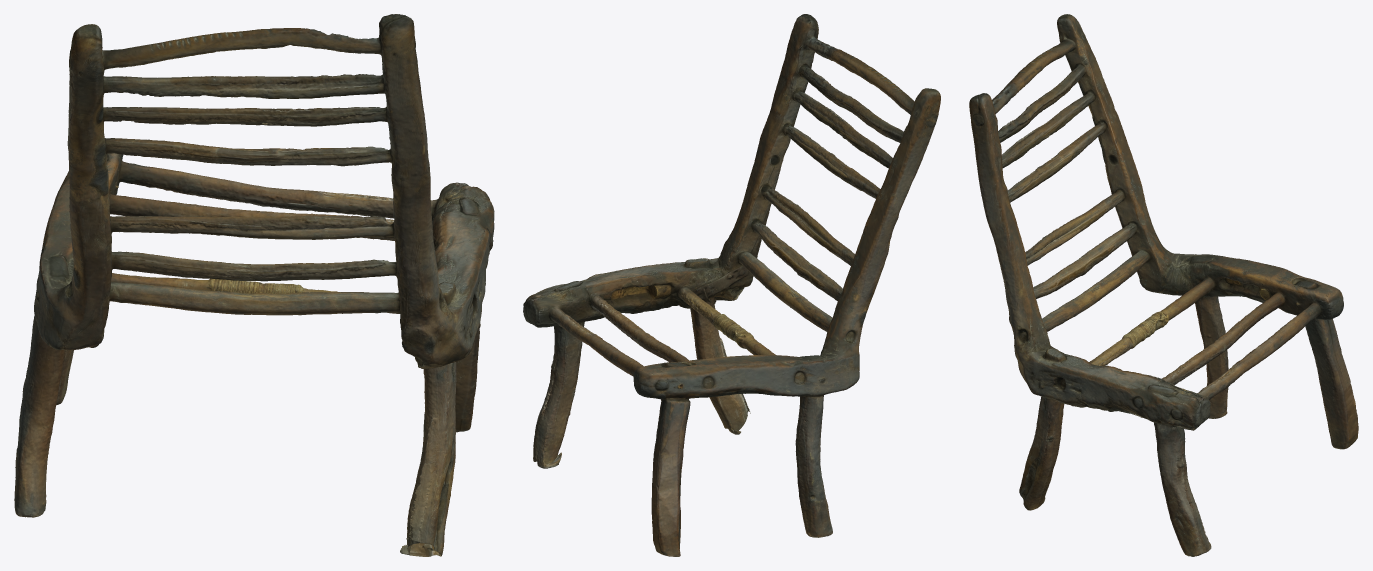
The model's file is chairs-sutherland-chair-a2a39683.glb.
The picture shows the model from 3 angles, left to right: view 1: azimuth 30°, elevation 25°; view 2: azimuth 150°, elevation 25°; view 3: azimuth 270°, elevation 25°; orthographic projection. The views are drawn at different scales.
Visible parts, largest first — view 1: Object_6, Object_4, Object_2, Object_8, Object_3, Object_5, Object_7, Object_9; view 2: Object_6, Object_4, Object_8, Object_7, Object_2, Object_9, Object_5, Object_3; view 3: Object_6, Object_4, Object_2, Object_7, Object_8, Object_5, Object_3, Object_9.
Part boxes in pixels (x1,y1,x2,y2): Object_6: (38,74,494,548); Object_4: (67,16,489,556); Object_2: (26,14,456,556); Object_8: (14,74,480,517); Object_3: (27,146,456,556); Object_5: (69,177,489,554); Object_7: (39,153,494,555); Object_9: (22,159,439,487); Object_6: (523,65,889,551); Object_4: (581,14,940,432); Object_8: (539,74,869,537); Object_7: (523,241,859,556); Object_2: (551,14,940,535); Object_9: (653,189,842,482); Object_5: (533,216,890,466); Object_3: (553,124,865,537); Object_6: (982,122,1350,505); Object_4: (969,23,1245,505); Object_2: (969,14,1341,510); Object_7: (1014,254,1358,504); Object_8: (999,108,1313,554); Object_5: (990,139,1215,556); Object_3: (1007,141,1343,505); Object_9: (1025,207,1313,333).
Bounding box in the file's own units: 10.93 × 12.08 × 10.89.
4 materials, 4 textured.
